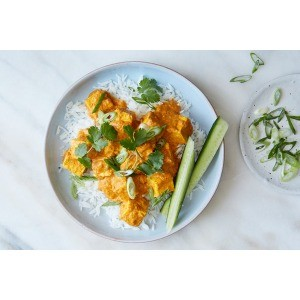tofu_brain food: (68, 82, 195, 235)
